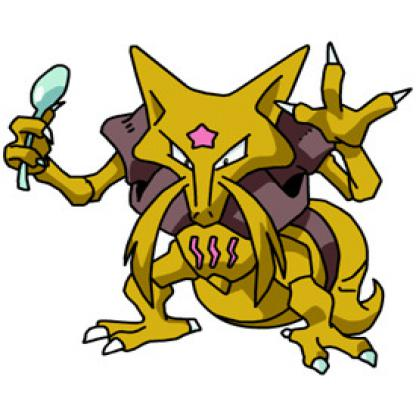Kadabra: (13, 24, 416, 389)
